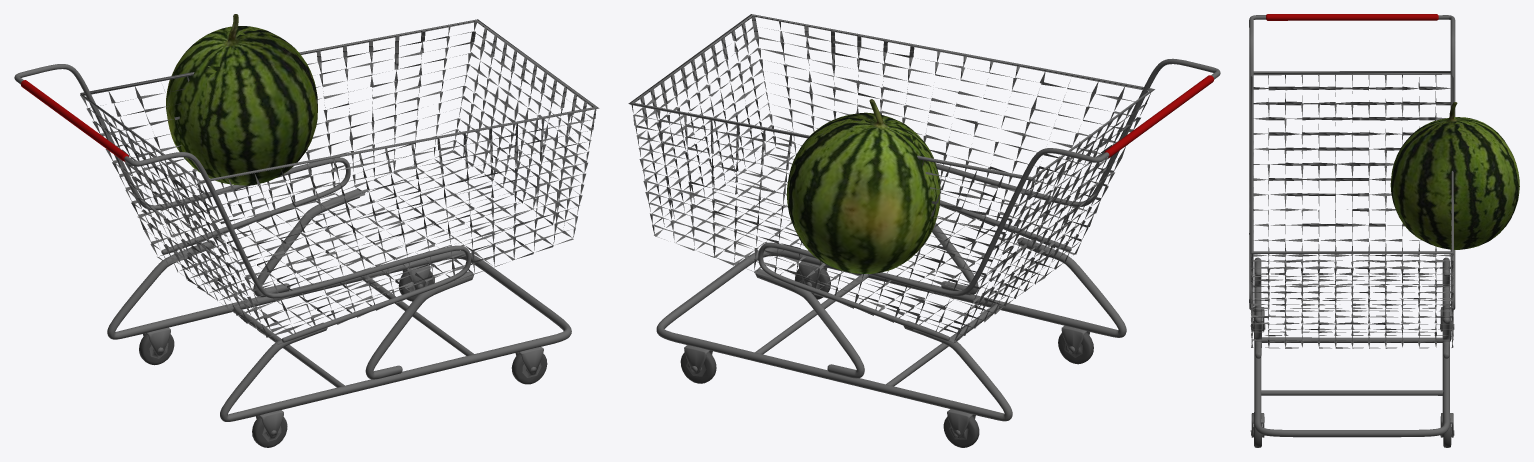
The model's file is throwables.glb.
The picture shows the model from 3 angles, left to right: view 1: azimuth 30°, elevation 25°; view 2: azimuth 150°, elevation 25°; view 3: azimuth 270°, elevation 25°; orthographic projection. The views are drawn at different scales.
Parts seen in each view (by area): view 1: cart, watermelon; view 2: cart, watermelon; view 3: cart, watermelon.
Boxes of the visible parts, x1=… form: cart: x1=14, y1=19, x2=599, y2=447; watermelon: x1=166, y1=14, x2=317, y2=185; cart: x1=628, y1=14, x2=1220, y2=447; watermelon: x1=786, y1=99, x2=940, y2=273; cart: x1=1249, y1=14, x2=1455, y2=447; watermelon: x1=1390, y1=102, x2=1519, y2=249.
Bounding box in the file's own units: 1.21 × 0.809 × 0.7279.
Materials: 5 (1 with a texture image).
